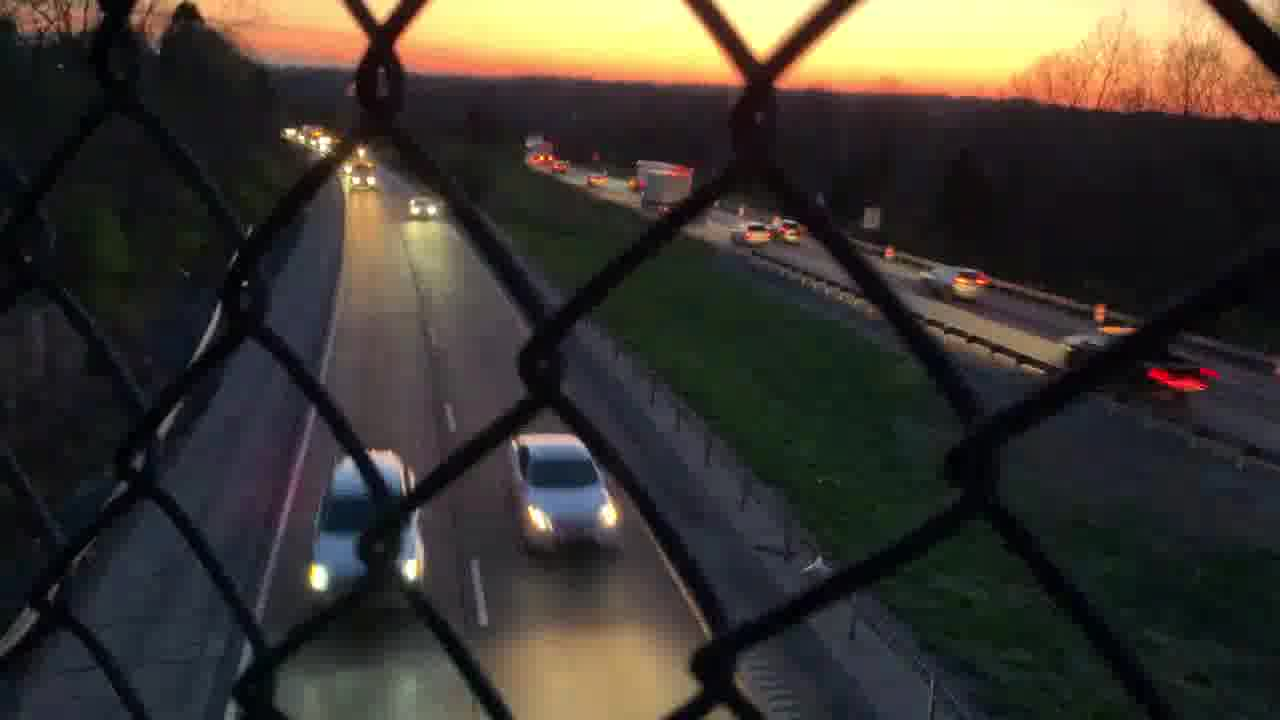largeCar: (310, 445, 424, 622), (912, 262, 987, 307)
lightTruck: (1061, 327, 1217, 407)
smallCar: (503, 438, 622, 559), (405, 194, 441, 225)
